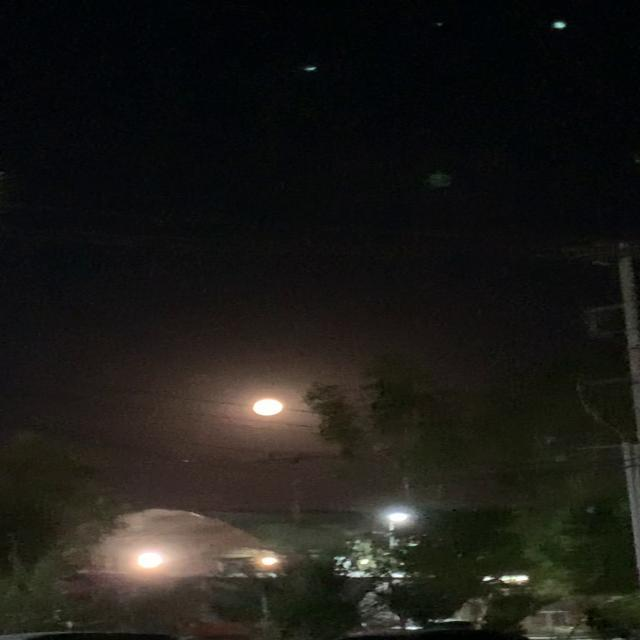moon: (237, 392, 290, 417)
